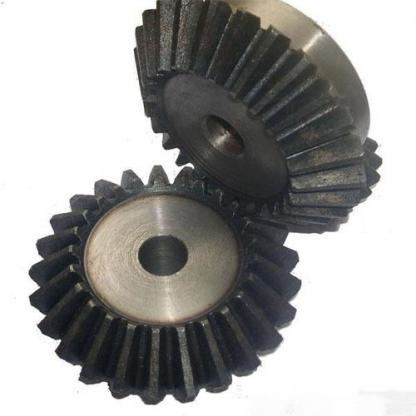FOD: (24, 152, 305, 406), (130, 0, 388, 237)
